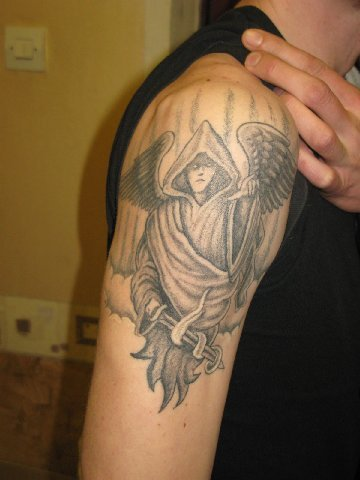tatu1_angel: (117, 119, 302, 372)
